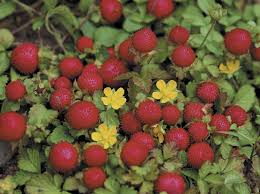Fresa: (64, 99, 102, 135), (46, 140, 83, 176), (9, 41, 40, 76), (186, 141, 217, 173), (222, 26, 253, 57), (133, 96, 163, 127), (77, 62, 104, 96), (162, 125, 190, 153), (188, 117, 215, 145), (171, 43, 196, 70), (133, 26, 158, 53), (225, 102, 248, 127), (197, 80, 220, 104), (4, 79, 27, 103)
